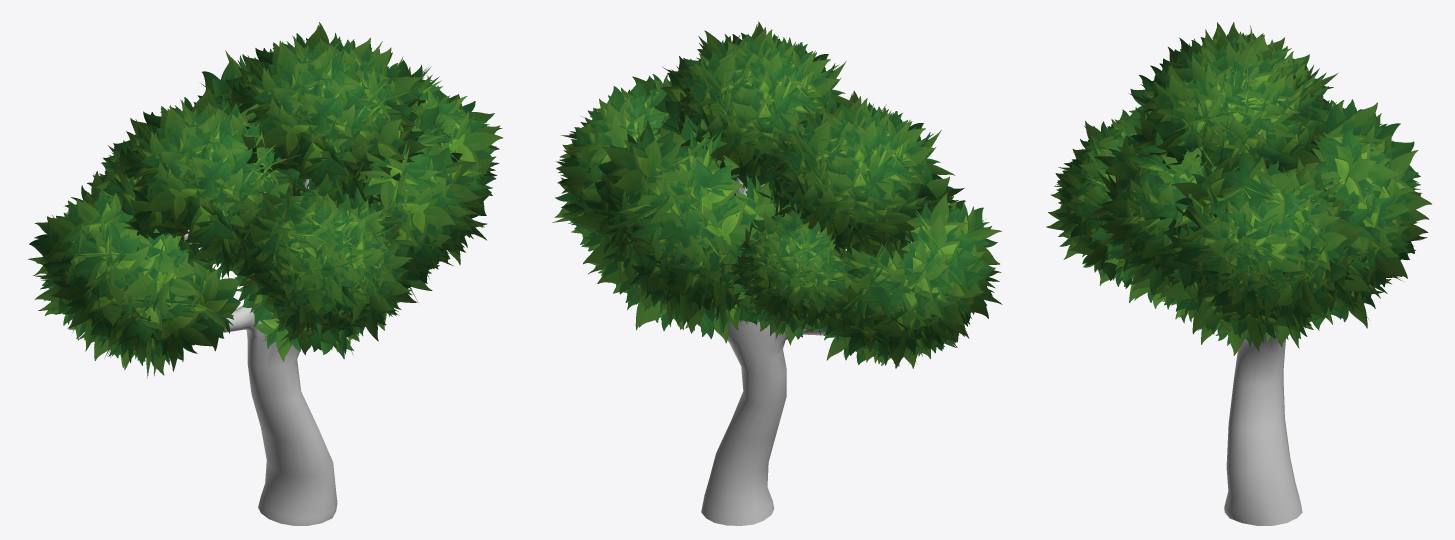
The model's file is TreeModel.fbx.
3 renders of one model, left to right at view 1: azimuth 30°, elevation 25°; view 2: azimuth 150°, elevation 25°; view 3: azimuth 270°, elevation 25°, orthographic. The views are drawn at different scales.
Parts seen in each view (by area): view 1: Bush, TreeSculptLow; view 2: Bush, TreeSculptLow; view 3: Bush, TreeSculptLow.
Part boxes in pixels (x1,y1,x2,y2): Bush: (28,22,502,378); TreeSculptLow: (184,179,337,525); Bush: (552,21,1002,368); TreeSculptLow: (701,177,825,525); Bush: (1046,22,1431,355); TreeSculptLow: (1224,332,1302,525).
Size of the model in its own units: 5.33 by 5.39 by 4.16.
